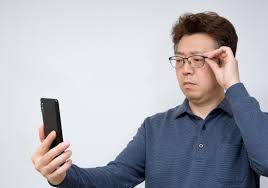asian_male: (149, 29, 225, 106)
